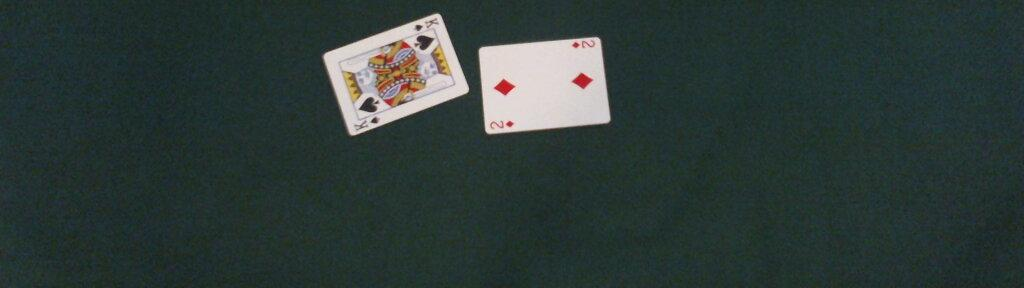king: (322, 13, 468, 135)
two: (476, 36, 611, 135)
